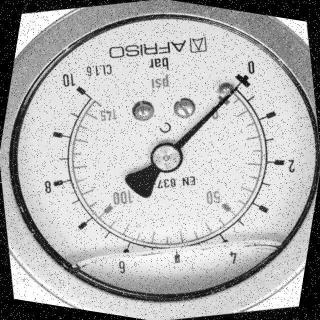gauge: (0, 0, 320, 320), (222, 54, 268, 99), (56, 65, 101, 110), (148, 140, 185, 176), (228, 76, 246, 95)
